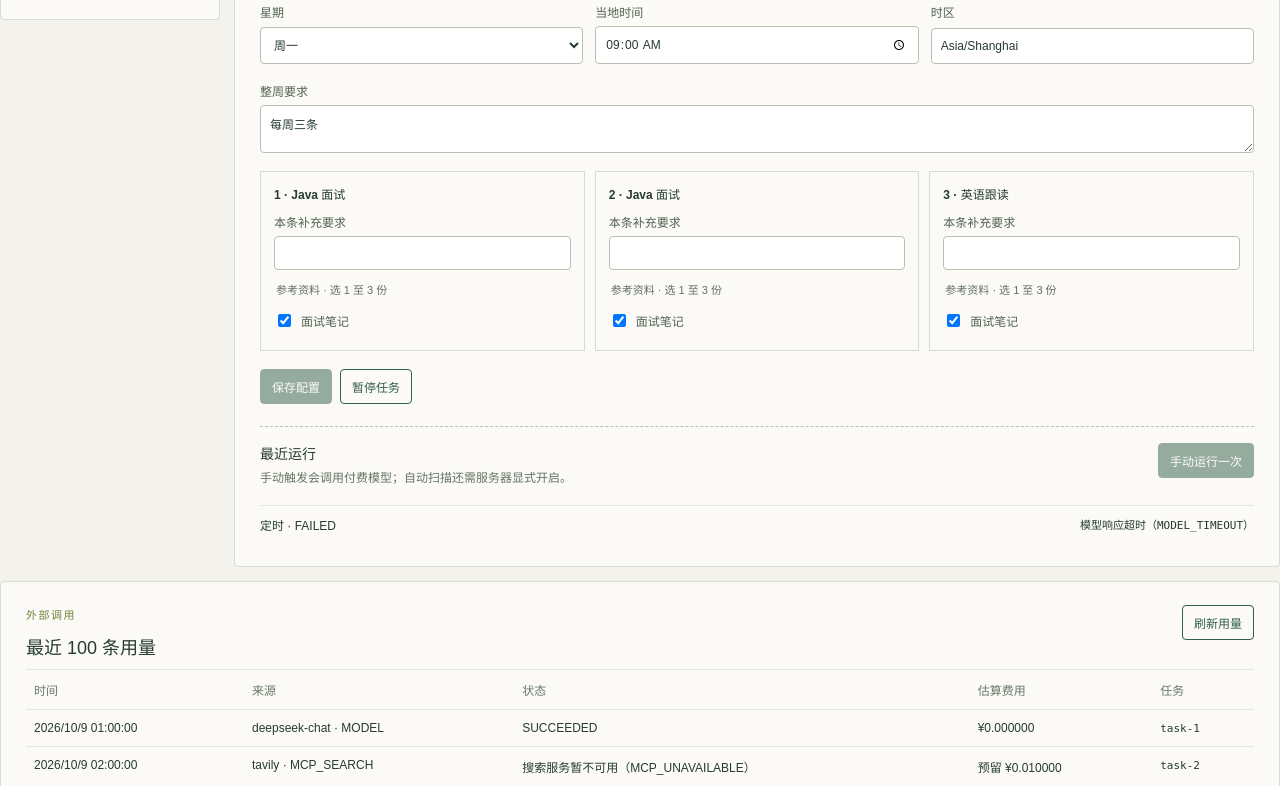
Test: operations page › updates the saved enabled state once and disables redundant saves
The width and height of the screenshot is (1280, 786).
(page scrolled)
Expected: the button "保存配置" is disabled, [260,369,332,404]
Click the button "暂停任务" at x=376, y=387, box [340,369,412,404]
(page scrolled)
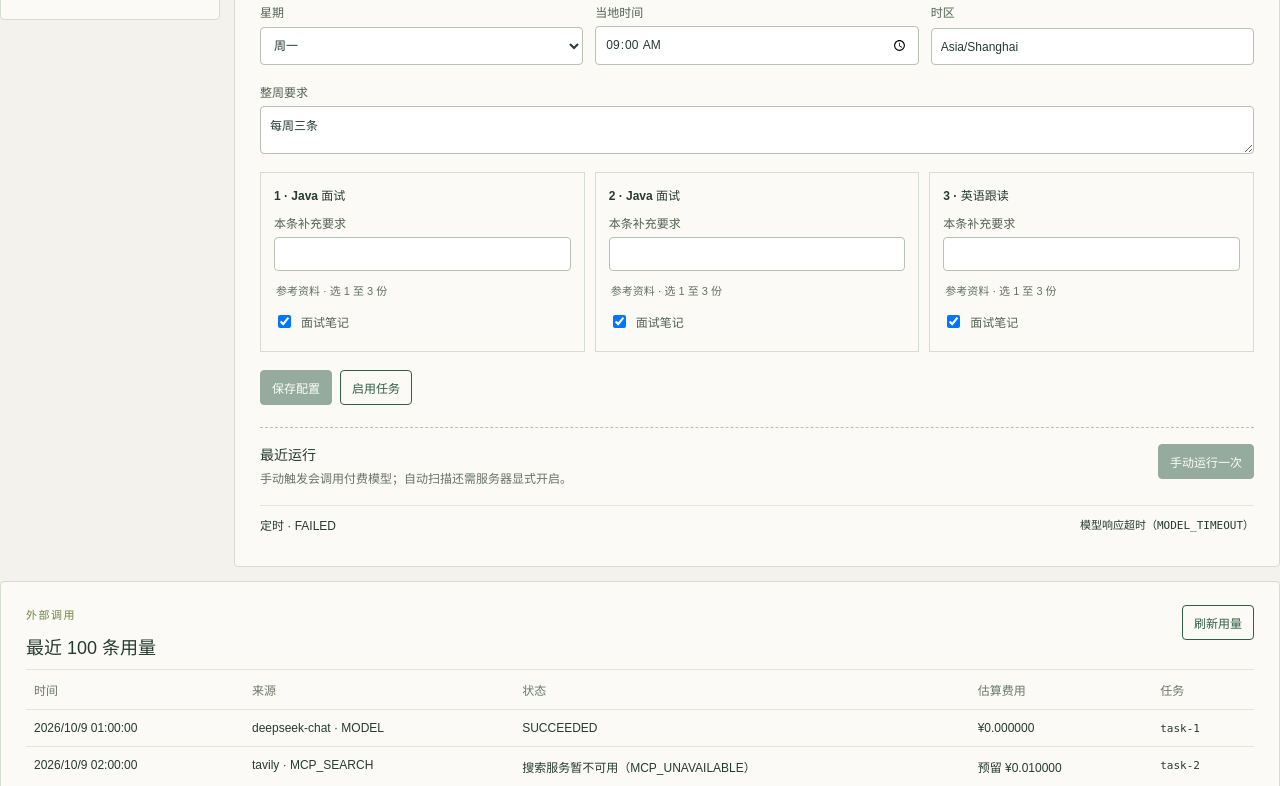
Expected: the button "保存配置" is disabled, [260,370,332,405]
Result: the button "启用任务" is shown at [340,370,412,405]
